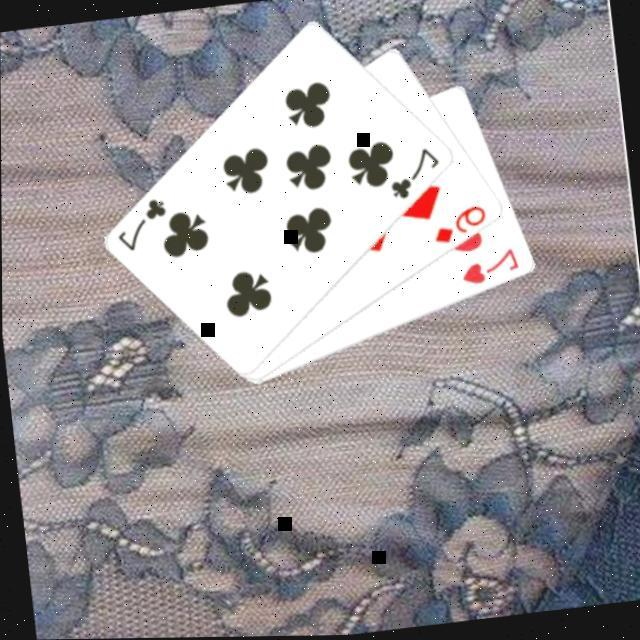7C: (111, 192, 174, 254), (385, 143, 447, 204)
7H: (457, 244, 525, 289)
9D: (430, 201, 494, 248)
